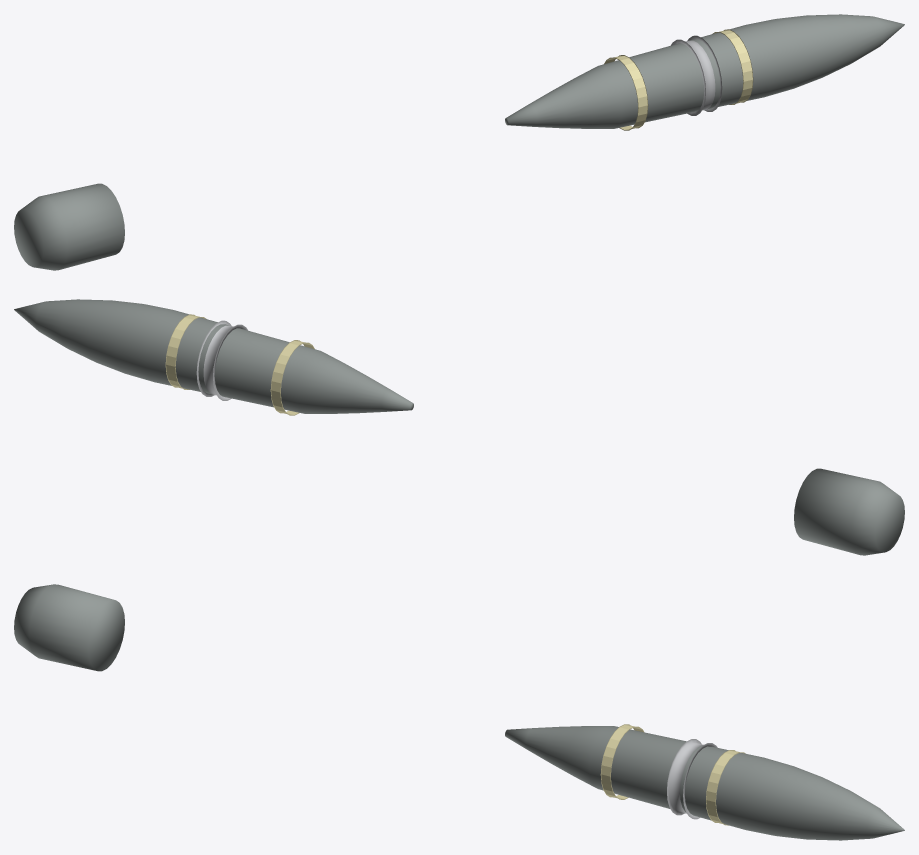
Rendered from IN_SLBM_K15_LOD1.fbx.
3 renders of one model, top to bottom at view 1: azimuth 30°, elevation 25°; view 2: azimuth 150°, elevation 25°; view 3: azimuth 330°, elevation 25°, orthographic.
Parts seen in each view (by area): view 1: WPN_IN_SLBM_K15_LOD1_Body, WPN_IN_SLBM_K15_LOD1_Tail, WPN_IN_SLBM_K15_LOD1_Marking, WPN_IN_SLBM_K15_LOD1_Detail; view 2: WPN_IN_SLBM_K15_LOD1_Body, WPN_IN_SLBM_K15_LOD1_Tail, WPN_IN_SLBM_K15_LOD1_Marking, WPN_IN_SLBM_K15_LOD1_Detail; view 3: WPN_IN_SLBM_K15_LOD1_Body, WPN_IN_SLBM_K15_LOD1_Tail, WPN_IN_SLBM_K15_LOD1_Marking, WPN_IN_SLBM_K15_LOD1_Detail.
Boxes of the visible parts, bbox=[...] form: WPN_IN_SLBM_K15_LOD1_Body: bbox=[505, 14, 904, 128]; WPN_IN_SLBM_K15_LOD1_Tail: bbox=[14, 183, 124, 270]; WPN_IN_SLBM_K15_LOD1_Marking: bbox=[604, 29, 753, 130]; WPN_IN_SLBM_K15_LOD1_Detail: bbox=[671, 35, 722, 115]; WPN_IN_SLBM_K15_LOD1_Body: bbox=[14, 299, 413, 413]; WPN_IN_SLBM_K15_LOD1_Tail: bbox=[794, 468, 904, 555]; WPN_IN_SLBM_K15_LOD1_Marking: bbox=[165, 314, 314, 415]; WPN_IN_SLBM_K15_LOD1_Detail: bbox=[196, 320, 247, 400]; WPN_IN_SLBM_K15_LOD1_Body: bbox=[505, 726, 904, 840]; WPN_IN_SLBM_K15_LOD1_Tail: bbox=[14, 584, 124, 671]; WPN_IN_SLBM_K15_LOD1_Marking: bbox=[600, 724, 745, 825]; WPN_IN_SLBM_K15_LOD1_Detail: bbox=[667, 739, 717, 819].
Size of the model in its own units: 10 by 0.777 by 0.777.
